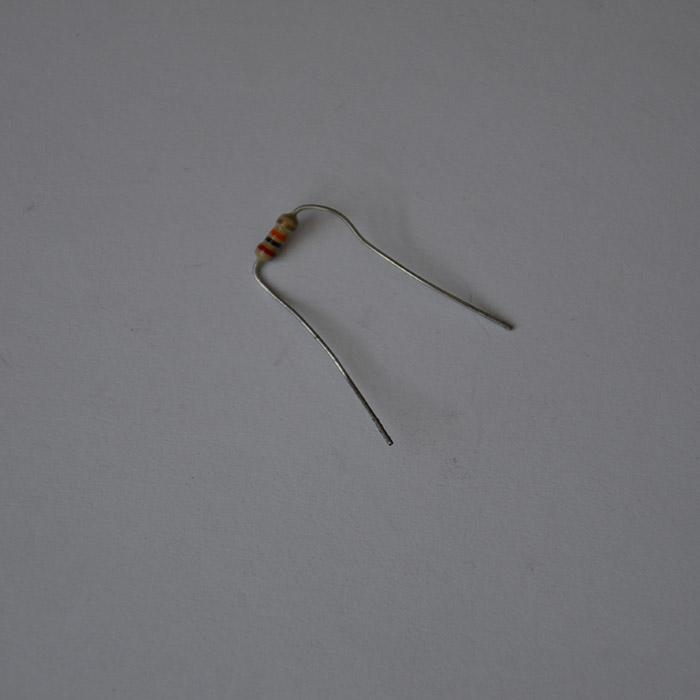resistor: (255, 212, 297, 265)
